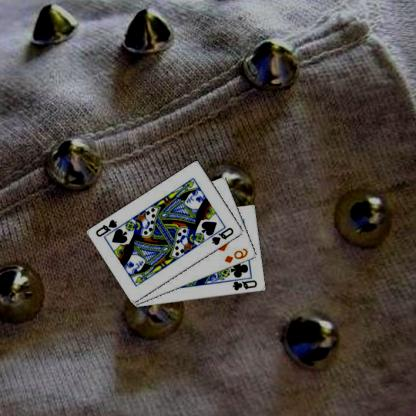6D: (224, 246, 251, 264)
QC: (232, 278, 260, 292)
QS: (211, 225, 237, 246), (95, 217, 121, 238)
